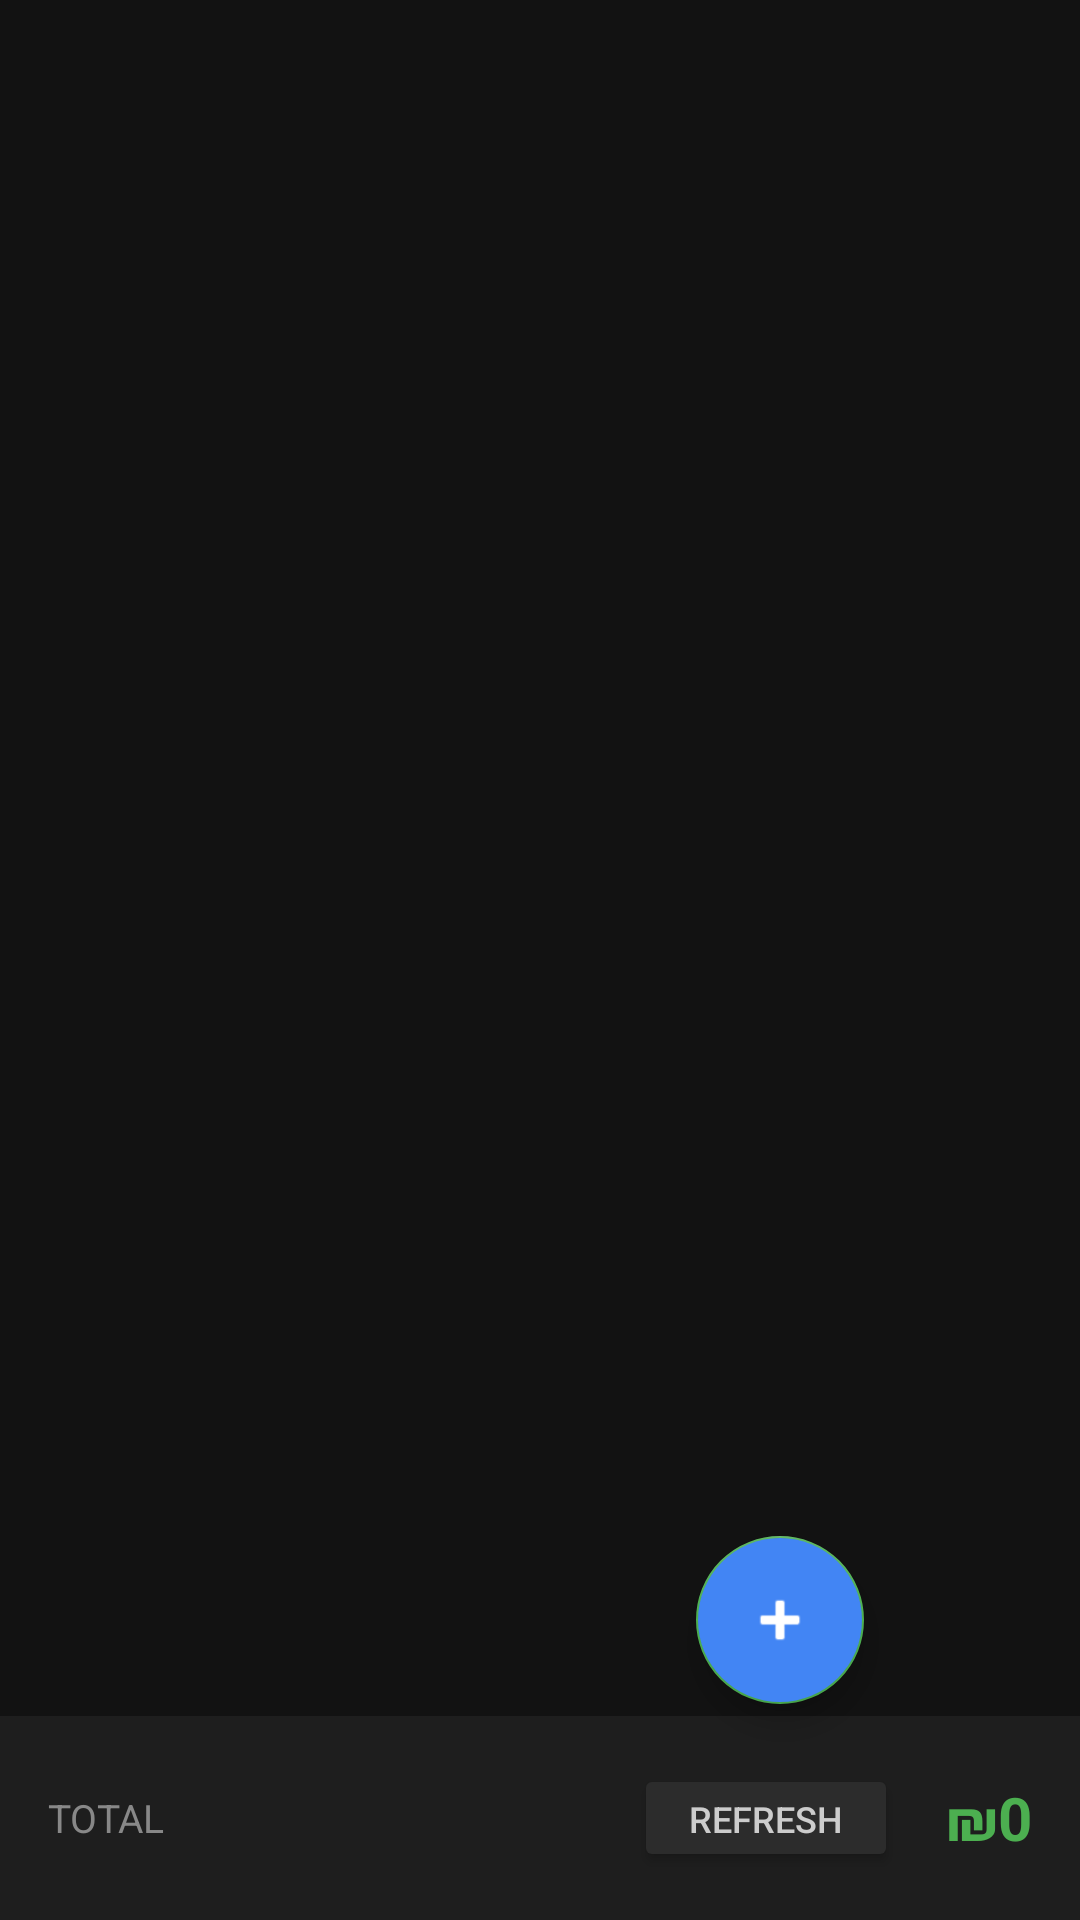

Icons on this 1080px x 1920px Android screen, each with its box as (x1, y1, x2, y2):
Add entry: (696, 1536, 864, 1704)
